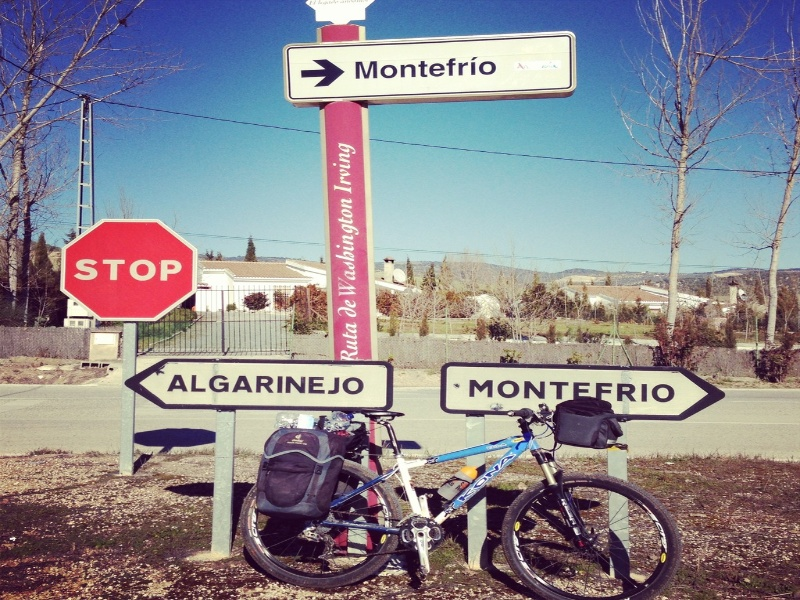right_direction: (295, 53, 349, 90)
stop: (58, 215, 199, 323)
